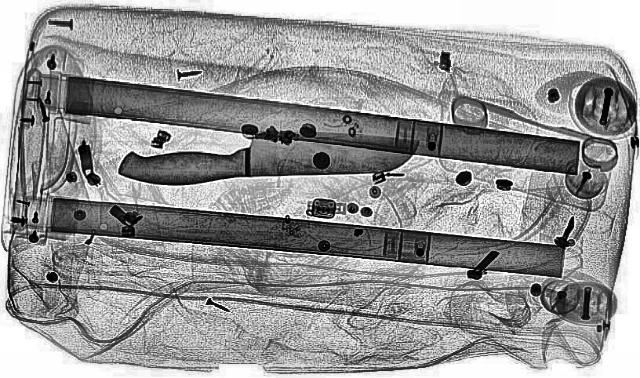Knife: (114, 127, 420, 185)
